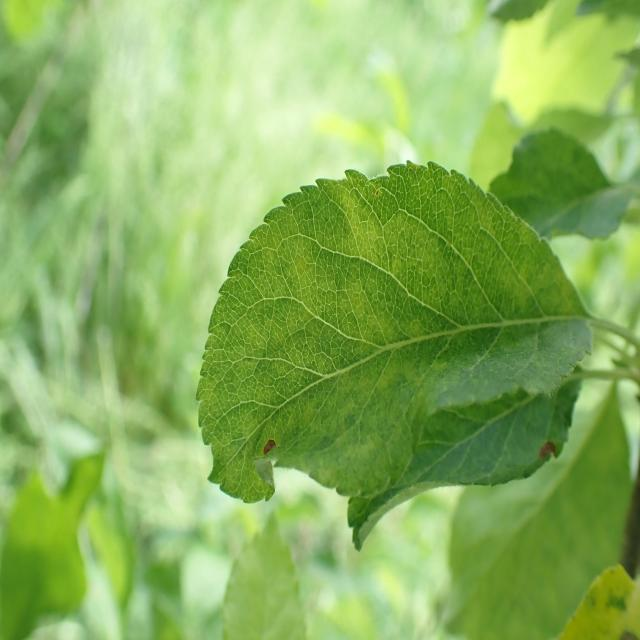scab: (193, 171, 568, 499)
